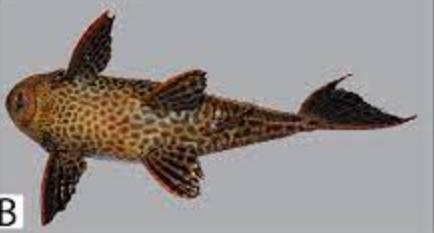Janitor Fish: (6, 9, 417, 227)
